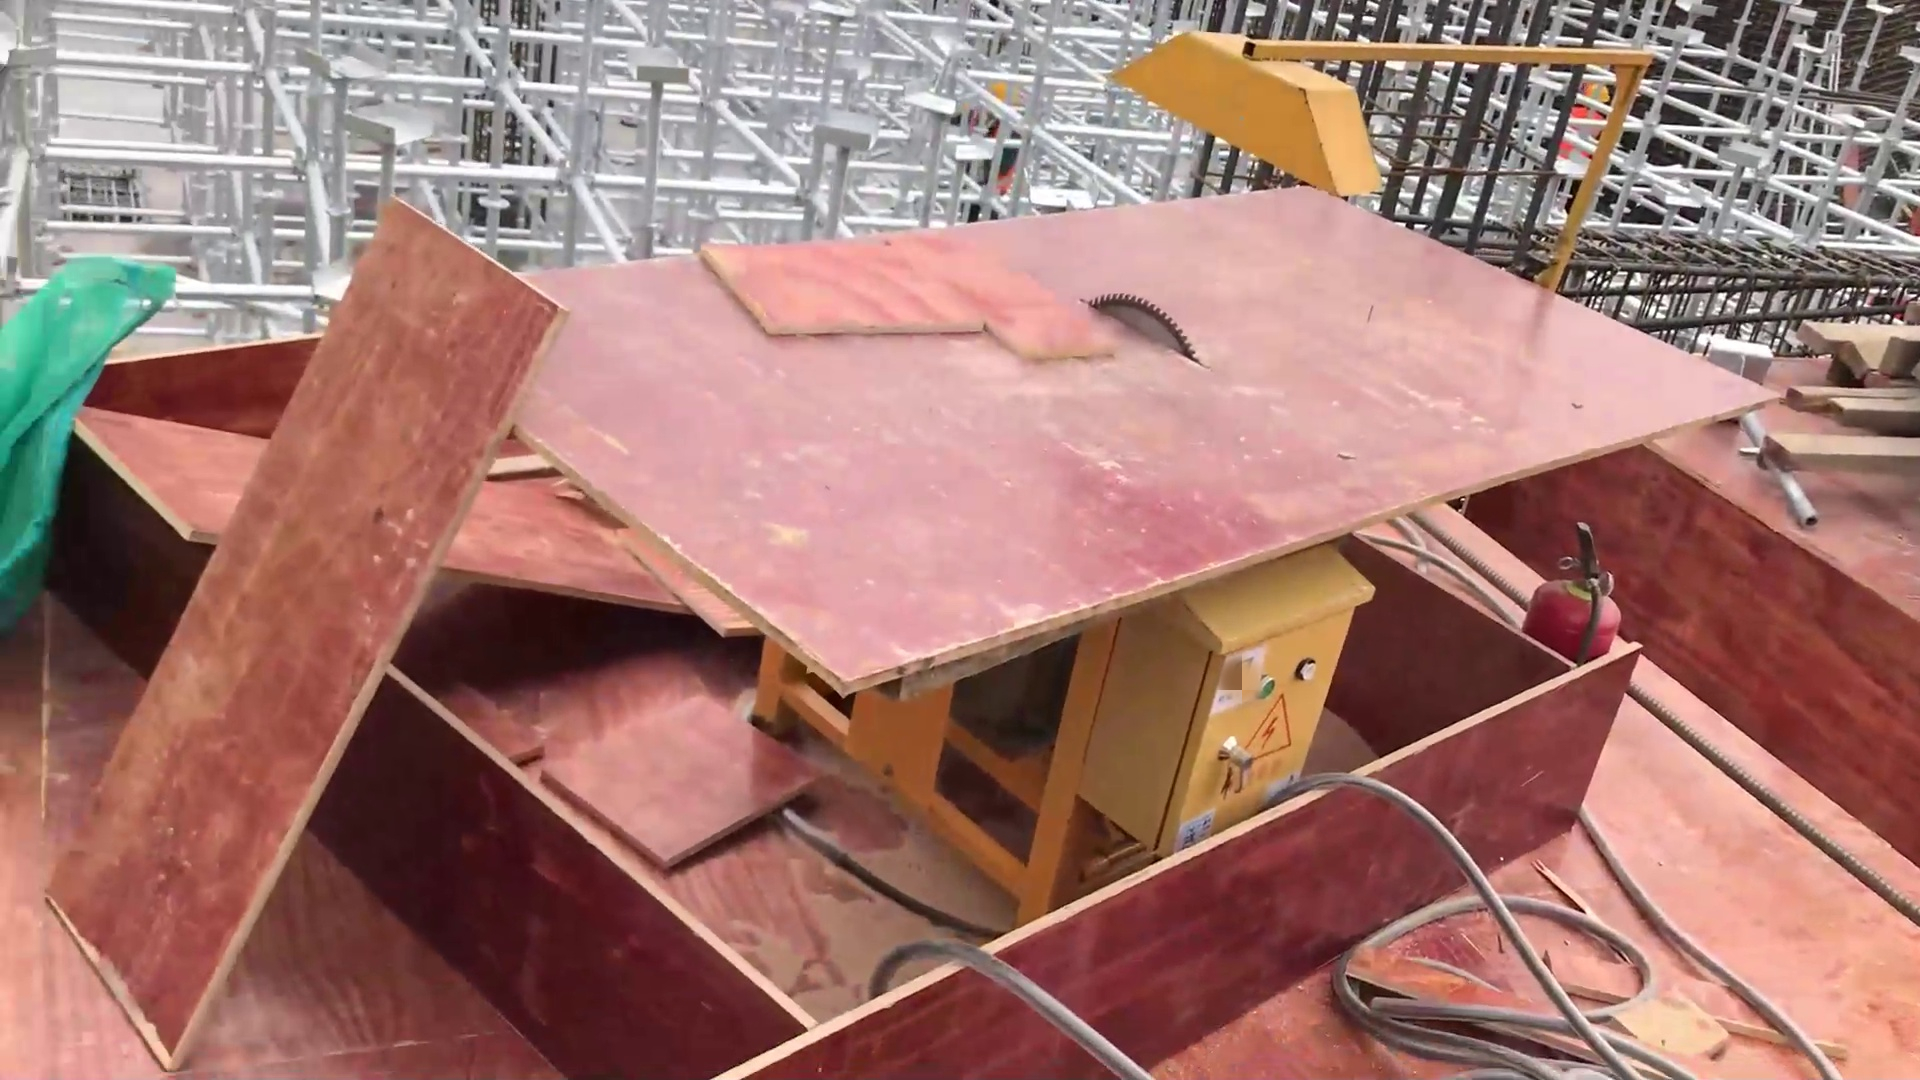cutter: (578, 201, 1679, 554)
ebox: (1089, 621, 1268, 846)
helmet: (992, 78, 1035, 108), (1586, 81, 1610, 106)
person: (959, 78, 1032, 216), (1553, 68, 1628, 185)
vest: (975, 109, 1018, 202), (1565, 112, 1590, 176)
wood: (1819, 358, 1920, 522)
